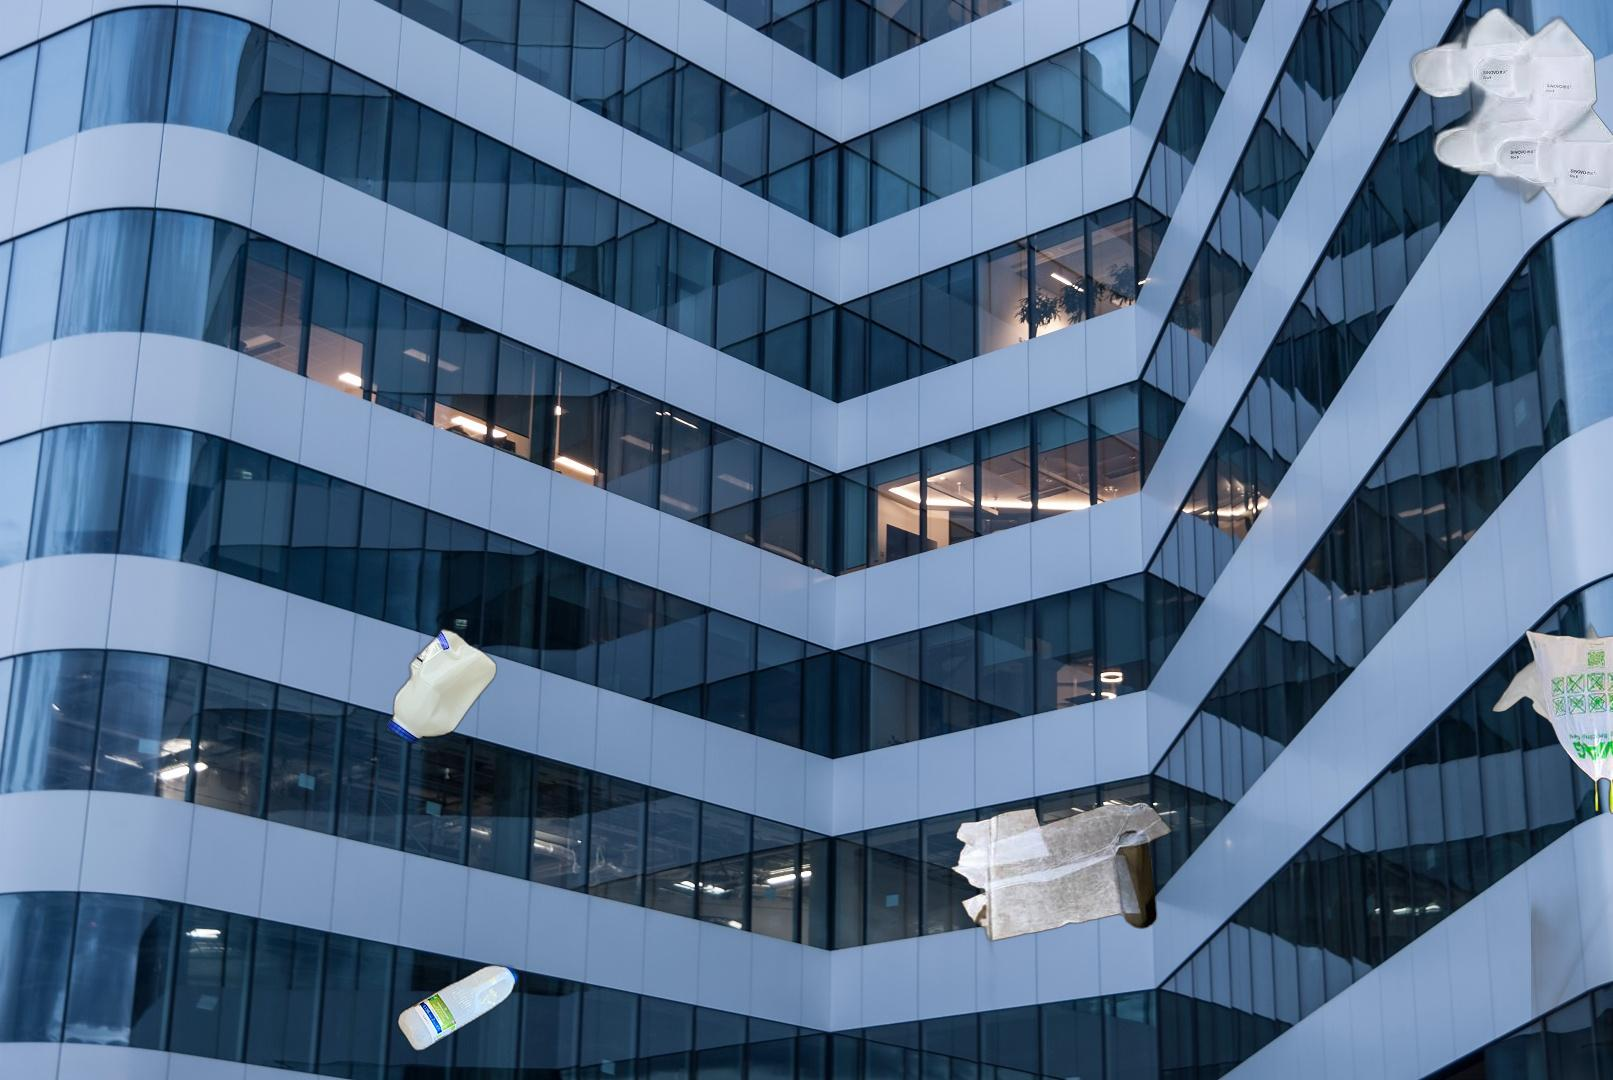plastic-bag: (1490, 620, 1613, 817)
plastic-bottles: (83, 958, 523, 1080), (382, 622, 502, 750)
trash: (1404, 1, 1613, 225)
trashbox-cardboard: (827, 799, 1177, 1080), (1531, 532, 1613, 1080)
